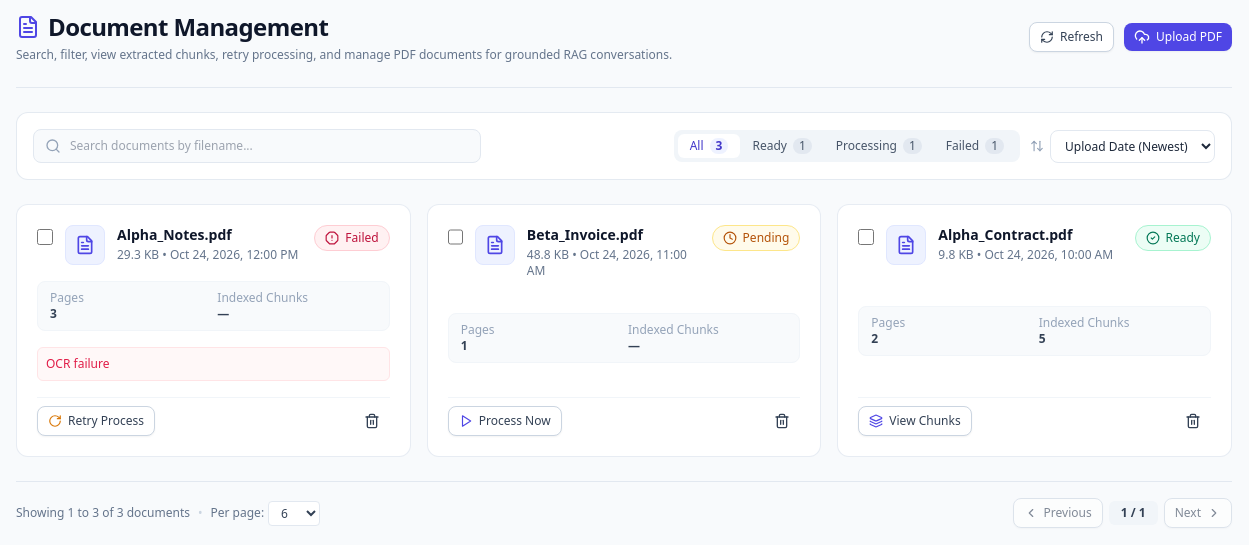
Test case: Document Management and Status Handling › supports search by filename, status filter tabs, and sorting in DocumentsPage
Expected: the heading "Alpha_Contract.pdf" is shown, [938,225,1072,244]
Expected: the heading "Beta_Invoice.pdf" is shown, [527,225,643,244]
// Search by filename "Alpha"
Type "Alpha" into the field with test id "document-search-input".
click(257, 146); type("Alpha")  # box [33,129,481,163]
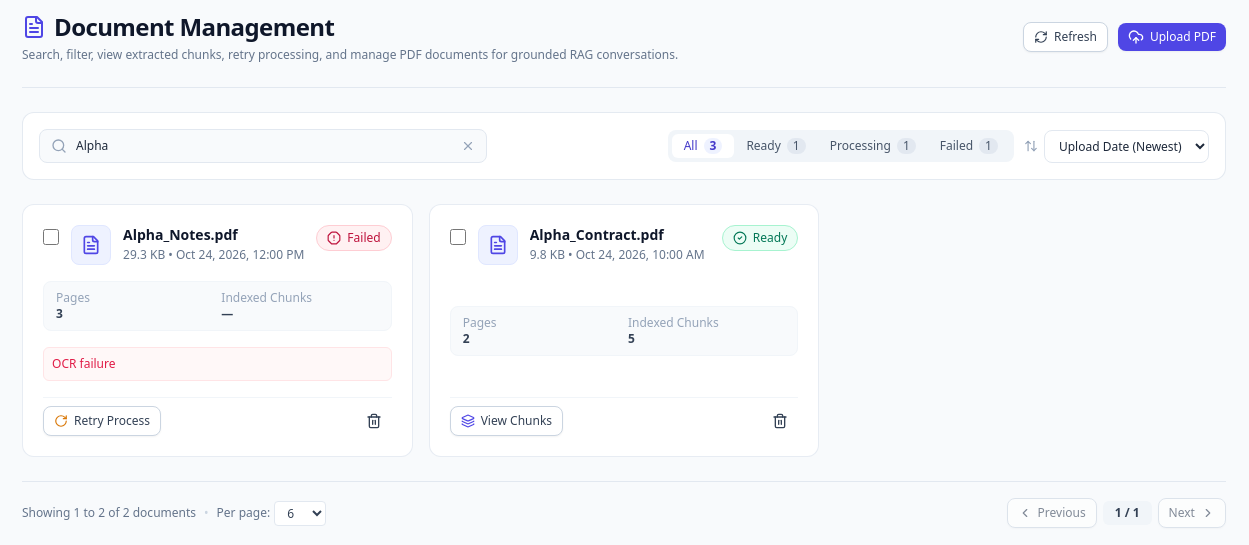
Expected: the heading "Alpha_Contract.pdf" is shown, [530,225,664,244]
Expected: the heading "Beta_Invoice.pdf" is gone
// Clear search
Clear the field with test id "document-search-input" at point(263, 146), box [39,129,487,163]
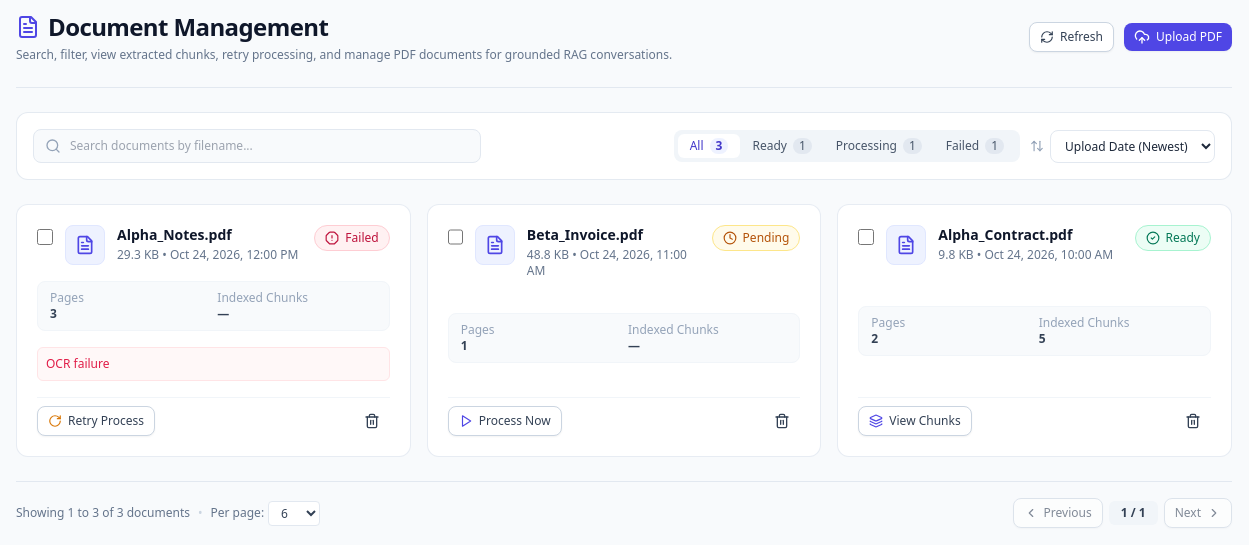
Expected: the heading "Beta_Invoice.pdf" is shown, [527,225,643,244]
// Status Filter: Ready
Click the button with test id "filter-ready".
click(782, 146)  # box [740,134,824,158]
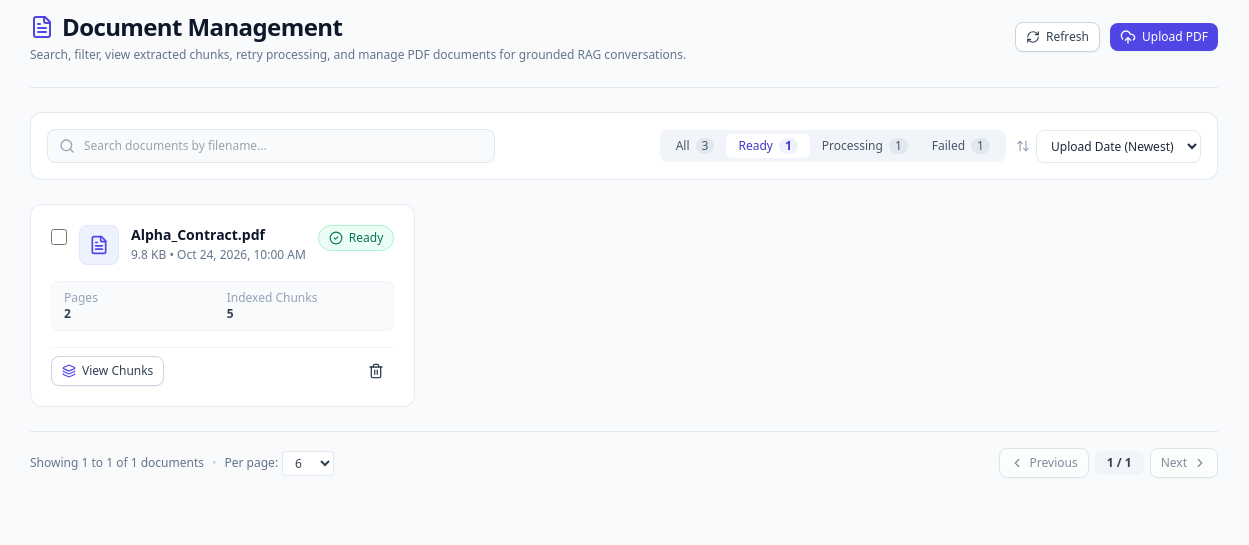
Expected: the heading "Alpha_Contract.pdf" is shown, [131,225,265,244]
Expected: the heading "Beta_Invoice.pdf" is gone
Expected: the heading "Alpha_Notes.pdf" is gone
// Status Filter: Failed
Click the button with test id "filter-failed".
click(961, 146)  # box [920,134,1002,158]
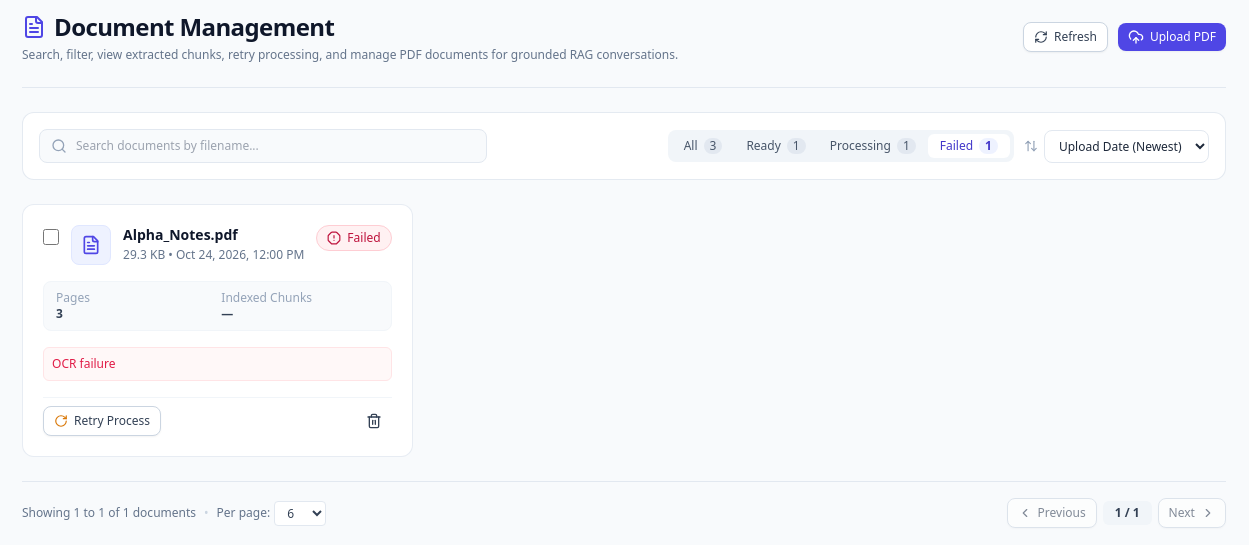
Expected: the heading "Alpha_Notes.pdf" is shown, [123,225,238,244]
Expected: the heading "Alpha_Contract.pdf" is gone
// Reset filter to All
Click the button with test id "filter-all".
click(703, 146)  # box [672,134,734,158]
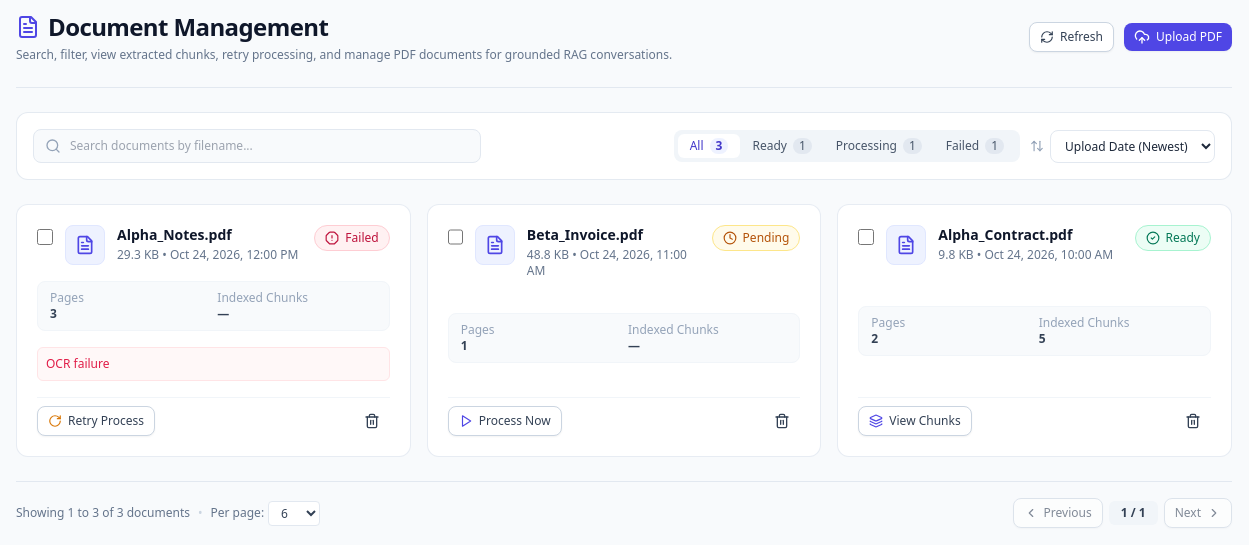
Expected: the heading "Alpha_Notes.pdf" is shown, [117,225,232,244]
Expected: the heading "Alpha_Contract.pdf" is shown, [938,225,1072,244]
Expected: the heading "Beta_Invoice.pdf" is shown, [527,225,643,244]
